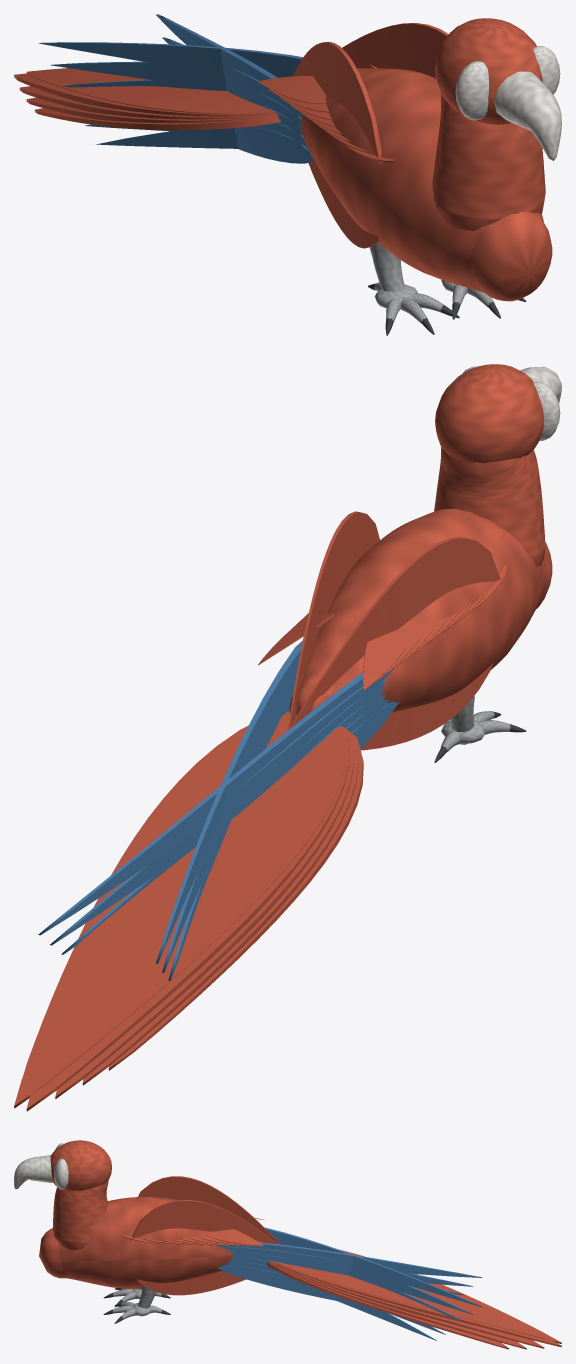
Rendered from birds-and-reptiles-hd-scarlet-macaw-2483dfea__28086.glb.
3 views of the same model, one above another, from view 1: azimuth 30°, elevation 25°; view 2: azimuth 150°, elevation 25°; view 3: azimuth 270°, elevation 25° (orthographic). The views are drawn at different scales.
Visible parts, largest first — view 1: scarlet-macaw; view 2: scarlet-macaw; view 3: scarlet-macaw.
Part boxes in pixels (left/top/right/bottom): scarlet-macaw: left=14, top=14, right=561, bottom=335; scarlet-macaw: left=14, top=364, right=561, bottom=1111; scarlet-macaw: left=14, top=1140, right=561, bottom=1349.
Size of the model in its own units: 0.1889 by 0.4095 by 1.
7 materials, 5 textured.
